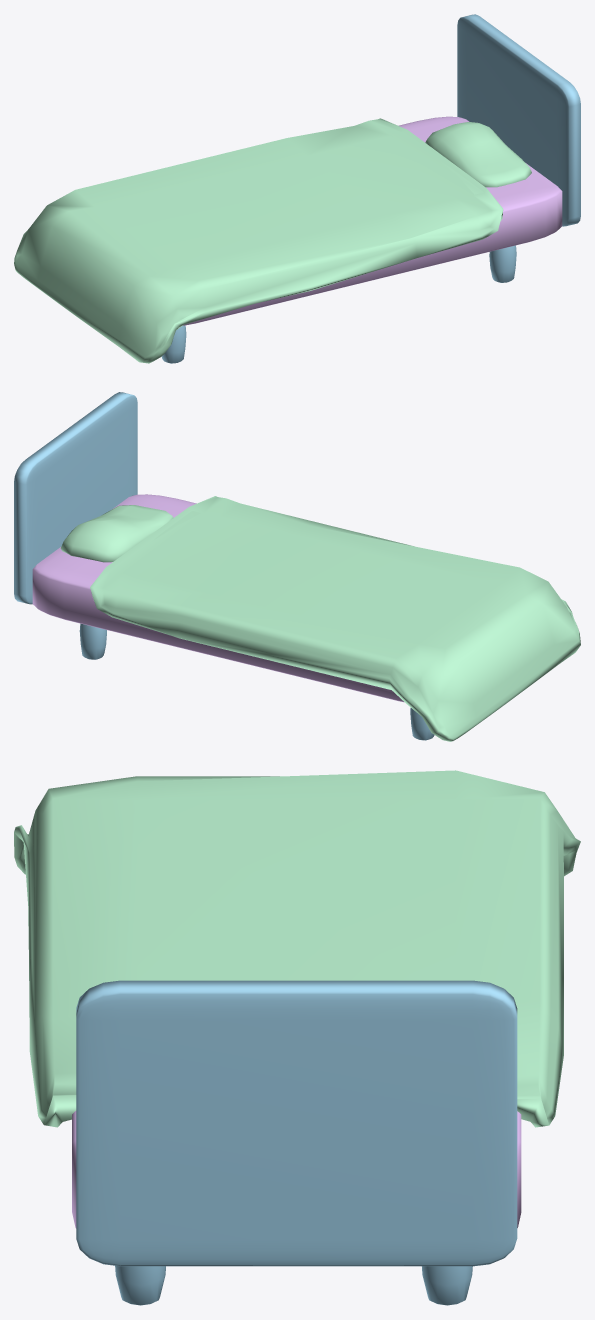
Rendered from Lit.fbx.
3 renders of one model, top to bottom at view 1: azimuth 30°, elevation 25°; view 2: azimuth 150°, elevation 25°; view 3: azimuth 270°, elevation 25°, orthographic. The views are drawn at different scales.
Visible parts, largest first — view 1: Cube.014, Cube.020, Cube.013, Cube.015, Cube.016, Cube.017; view 2: Cube.014, Cube.020, Cube.013, Cube.015, Cube.018, Cube.019; view 3: Cube.020, Cube.014, Cube.016, Cube.018, Cube.013.
Boxes of the visible parts, x1=… form: Cube.014: x1=14, y1=118, x2=503, y2=363; Cube.020: x1=457, y1=14, x2=580, y2=226; Cube.013: x1=183, y1=116, x2=562, y2=325; Cube.015: x1=425, y1=122, x2=531, y2=187; Cube.016: x1=489, y1=245, x2=516, y2=282; Cube.017: x1=161, y1=325, x2=186, y2=363; Cube.014: x1=90, y1=496, x2=580, y2=741; Cube.020: x1=14, y1=392, x2=137, y2=604; Cube.013: x1=32, y1=494, x2=404, y2=702; Cube.015: x1=60, y1=505, x2=173, y2=562; Cube.018: x1=79, y1=623, x2=106, y2=659; Cube.019: x1=410, y1=708, x2=434, y2=740; Cube.020: x1=76, y1=980, x2=517, y2=1266; Cube.014: x1=14, y1=770, x2=580, y2=1127; Cube.016: x1=115, y1=1265, x2=165, y2=1305; Cube.018: x1=422, y1=1266, x2=472, y2=1305; Cube.013: x1=72, y1=1111, x2=521, y2=1228.
Size of the model in its own units: 227 by 409 by 164.
